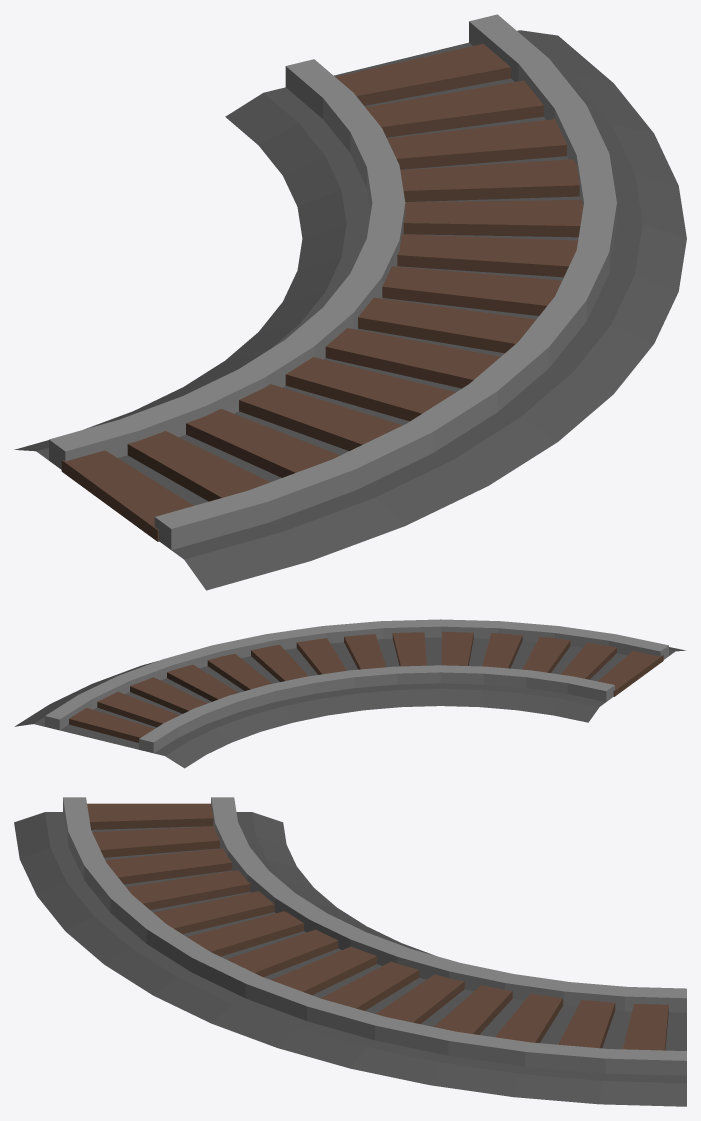
Rendered from rail9.fbx.
3 renders of one model, top to bottom at view 1: azimuth 30°, elevation 25°; view 2: azimuth 150°, elevation 25°; view 3: azimuth 270°, elevation 25°, orthographic. The views are drawn at different scales.
Visible parts, largest first — view 1: Cube.003; view 2: Cube.003; view 3: Cube.003.
Boxes of the visible parts, x1,y1,x2,y2 form: Cube.003: (14,14,686,590); Cube.003: (14,619,685,768); Cube.003: (14,797,686,1106).
Bounding box in the file's own units: 98.19 × 4.05 × 98.04.
